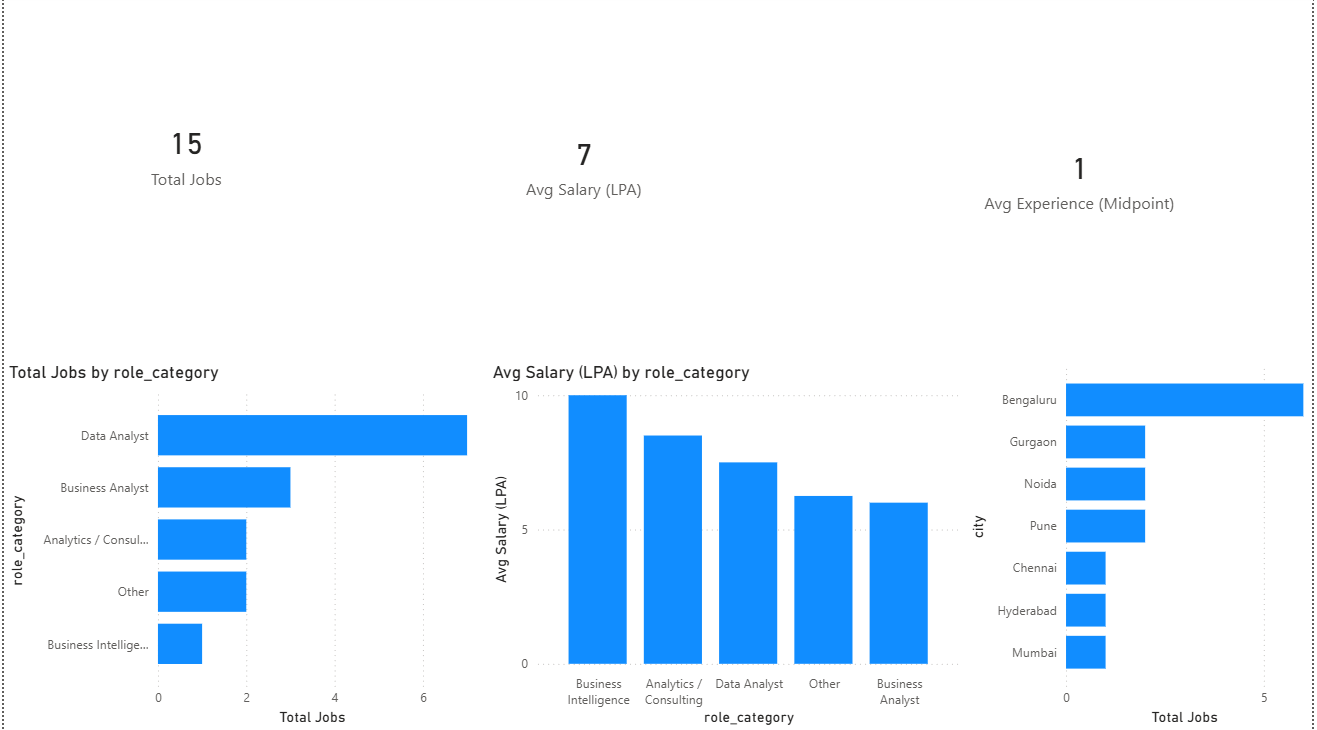

The page's visual inventory and layout, read from the dashboard file:
{"tool":"powerbi","page":{"name":"Page 1","canvas":[1280,720],"ordinal":0},"visuals":[{"type":"card","fields":{"Values":["indian_jobs_cleaned.Total Jobs"]},"box":[0,0,357.1,311.8],"z":0},{"type":"card","fields":{"Values":["indian_jobs_cleaned.Avg Salary (LPA)"]},"box":[368.1,0,398.6,332.6],"z":1000},{"type":"clusteredBarChart","fields":{"Category":["indian_jobs_cleaned.role_category"],"Y":["indian_jobs_cleaned.Total Jobs"]},"box":[0,359.5,462.2,360.7],"z":3000},{"type":"clusteredBarChart","fields":{"Category":["indian_jobs_cleaned.city"],"Y":["indian_jobs_cleaned.Total Jobs"]},"box":[940.4,332.6,339.9,387.6],"z":4000},{"type":"columnChart","fields":{"Y":["indian_jobs_cleaned.Avg Salary (LPA)"],"Category":["indian_jobs_cleaned.role_category"]},"box":[473.2,359.5,467.1,360.7],"z":4001},{"type":"card","fields":{"Values":["indian_jobs_cleaned.Avg Experience (Midpoint)"]},"box":[824.2,0,456.1,359.5],"z":4002}]}

Visuals, with their boxes in screenshot pixels (x1, y1, x2, y2), scaled from the page's 1280x720 canvas onto the 1317x730 screenshot:
card - indian_jobs_cleaned.Total Jobs: bbox(0, 0, 367, 316)
card - indian_jobs_cleaned.Avg Salary (LPA): bbox(379, 0, 789, 337)
clusteredBarChart - indian_jobs_cleaned.role_category x indian_jobs_cleaned.Total Jobs: bbox(0, 364, 476, 729)
clusteredBarChart - indian_jobs_cleaned.city x indian_jobs_cleaned.Total Jobs: bbox(968, 337, 1316, 729)
columnChart - indian_jobs_cleaned.Avg Salary (LPA) x indian_jobs_cleaned.role_category: bbox(487, 364, 967, 729)
card - indian_jobs_cleaned.Avg Experience (Midpoint): bbox(848, 0, 1316, 364)
